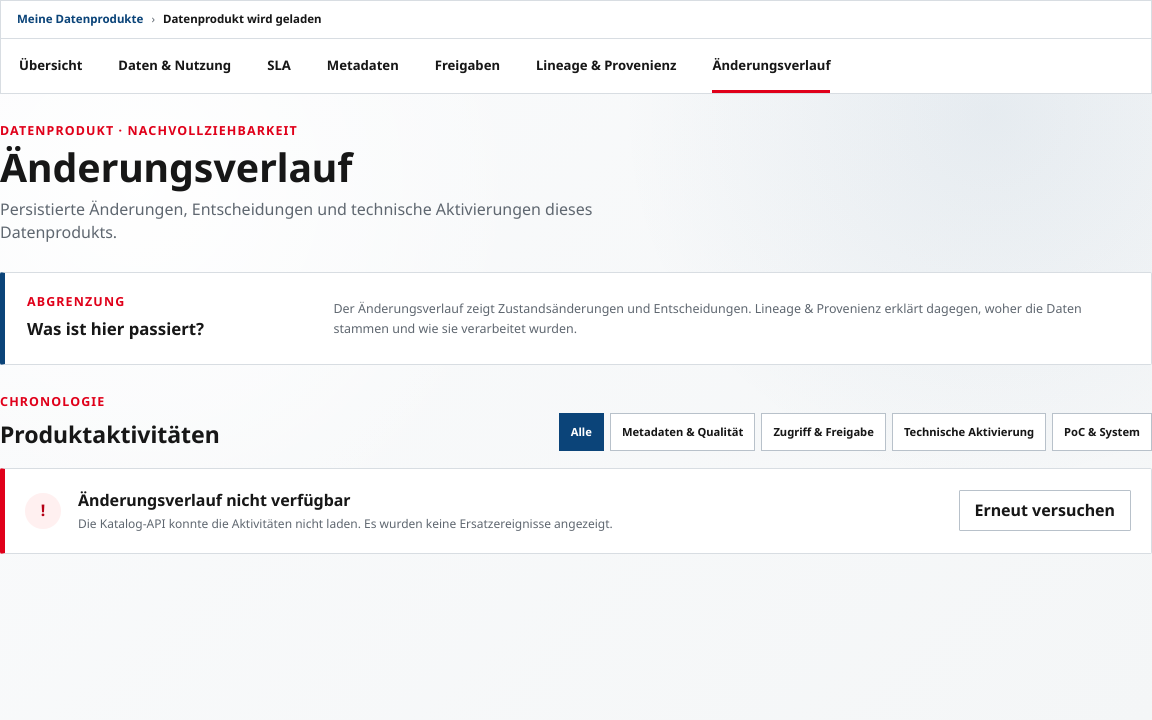
Test: ProductActivityComponent › shows a stable empty state and an isolated retryable error
Click the button "Erneut versuchen" at (1045, 511), box [958,490,1131,531]
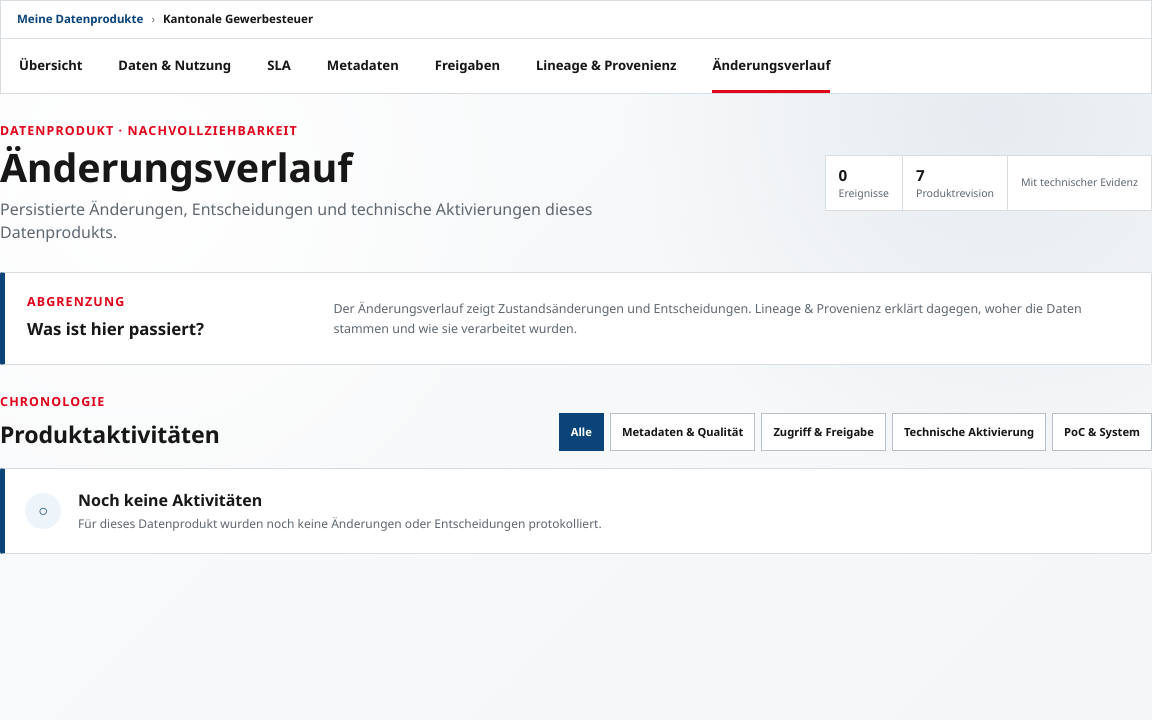
Expected: the text "Noch keine Aktivitäten" is shown, [78,489,262,511]
